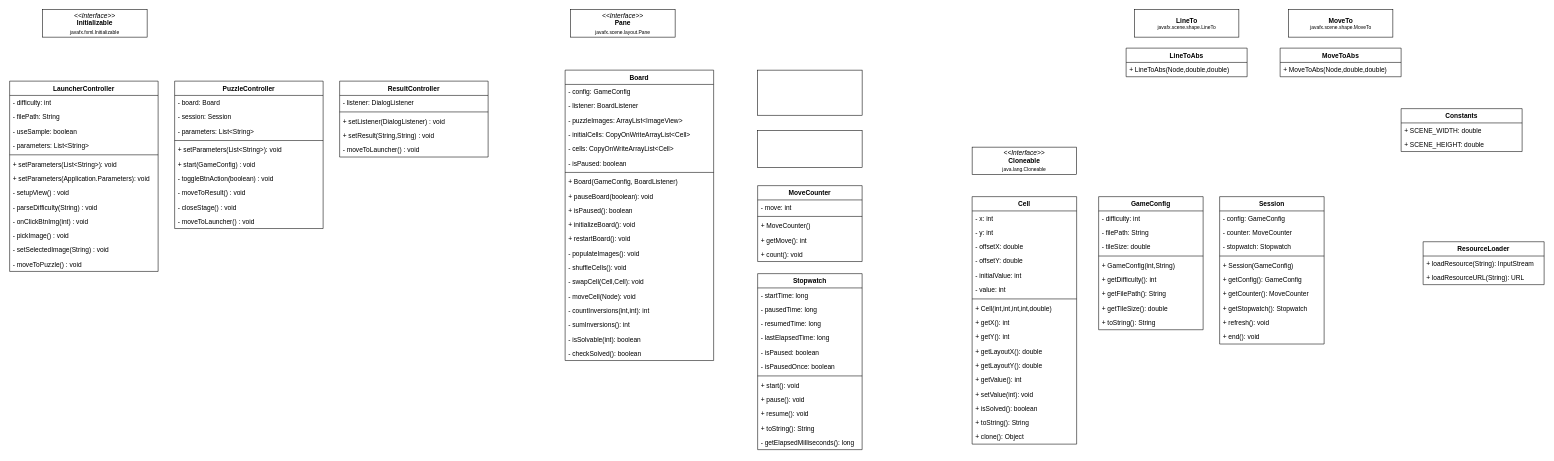
The diagram is 1554 pixels wide and 461 high, and some of its shapes have lost their labels. The shapes that lost their labels are listed below. From the top down, each one's centre as x and y in pixels, then its label:
(x=809, y=92): <<Interface>> BoardListener + onBoardMoved(): void + onBoardSolved(): void
(x=809, y=148): <<Interface>> DialogListener + onClose(): void
